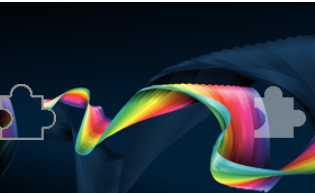target: (251, 84, 308, 142)
